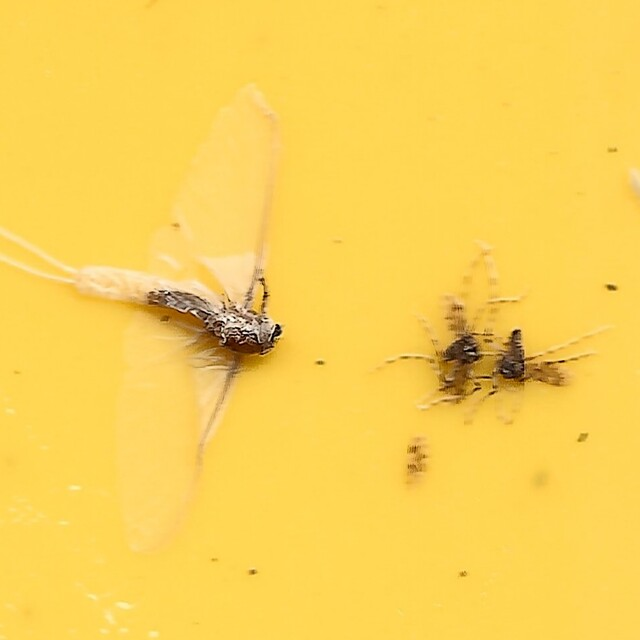Ephemeroptera: (66, 76, 280, 564)
Nematocera: (383, 283, 500, 411), (491, 323, 574, 408)
